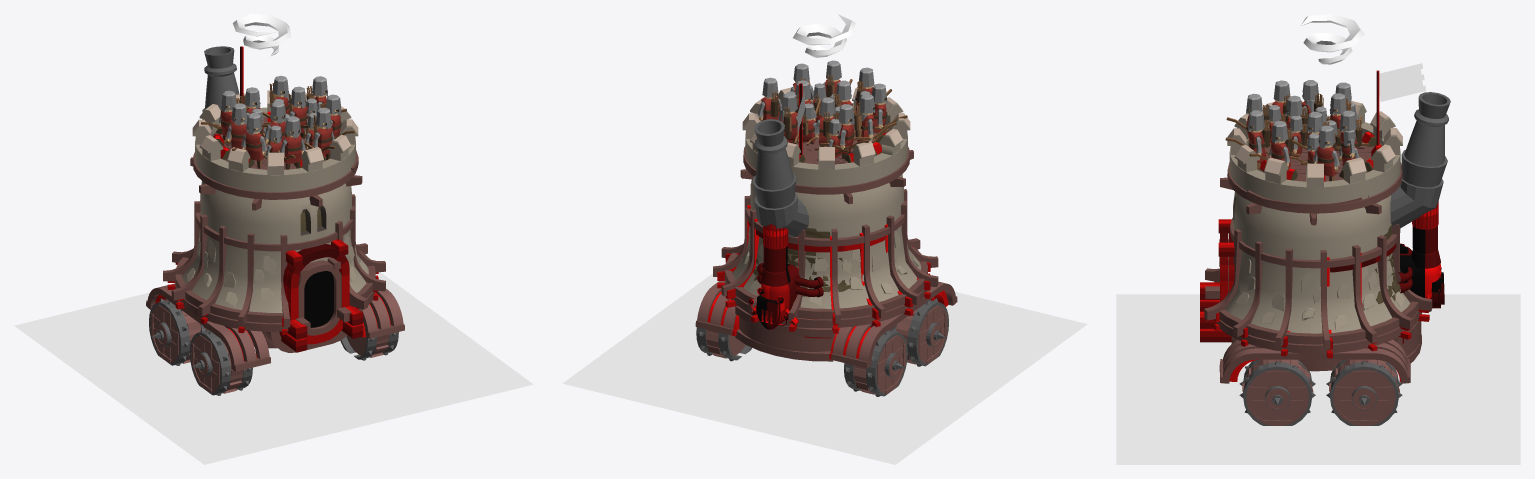
File: Mob_ArcheTower.glb
The picture shows the model from 3 angles, left to right: view 1: azimuth 30°, elevation 25°; view 2: azimuth 150°, elevation 25°; view 3: azimuth 270°, elevation 25°; orthographic projection. The views are drawn at different scales.
Parts seen in each view (by area): view 1: ArcherVehicle (1), VFX_Slow, Wanderburg_tf_ArcherVehicleClean_006, radtest (1), radtest (2), Wanderburg_Models_tf_Stun_001, Archer merged, radtest; view 2: ArcherVehicle (1), VFX_Slow, Wanderburg_tf_ArcherVehicleClean_006, T1_Motor Cleaning, radtest (1) (×2), radtest (2), Archer merged, Wanderburg_Models_tf_Stun_001; view 3: ArcherVehicle (1), VFX_Slow, Wanderburg_tf_ArcherVehicleClean_006, radtest, radtest (1), T1_Motor Cleaning, Archer merged, Wanderburg_Models_tf_Stun_001, Wanderburg_Models_tf_Flagge_017 (2).
Part boxes in pixels (left/top/right/bottom): ArcherVehicle (1): left=146, top=46, right=404, bottom=371; VFX_Slow: left=14, top=272, right=533, bottom=464; Wanderburg_tf_ArcherVehicleClean_006: left=155, top=111, right=390, bottom=361; radtest (1): left=189, top=328, right=252, bottom=395; radtest (2): left=149, top=298, right=206, bottom=365; Wanderburg_Models_tf_Stun_001: left=233, top=14, right=290, bottom=56; Archer merged: left=213, top=90, right=317, bottom=159; radtest: left=340, top=332, right=398, bottom=360; ArcherVehicle (1): left=695, top=60, right=957, bottom=368; VFX_Slow: left=562, top=273, right=1087, bottom=464; Wanderburg_tf_ArcherVehicleClean_006: left=707, top=111, right=948, bottom=359; T1_Motor Cleaning: left=748, top=224, right=823, bottom=329; radtest (1) (×2): left=696, top=298, right=948, bottom=366; radtest (2): left=844, top=328, right=907, bottom=396; Archer merged: left=779, top=83, right=888, bottom=157; Wanderburg_Models_tf_Stun_001: left=793, top=14, right=855, bottom=57; ArcherVehicle (1): left=1204, top=80, right=1450, bottom=383; VFX_Slow: left=1116, top=294, right=1520, bottom=464; Wanderburg_tf_ArcherVehicleClean_006: left=1200, top=132, right=1429, bottom=381; radtest: left=1239, top=359, right=1315, bottom=425; radtest (1): left=1326, top=359, right=1402, bottom=425; T1_Motor Cleaning: left=1398, top=201, right=1444, bottom=311; Archer merged: left=1265, top=99, right=1361, bottom=165; Wanderburg_Models_tf_Stun_001: left=1300, top=14, right=1364, bottom=64; Wanderburg_Models_tf_Flagge_017 (2): left=1379, top=63, right=1425, bottom=101.
Bounding box in the file's own units: 25.03 × 24.51 × 25.03.
10 materials, 7 textured.
